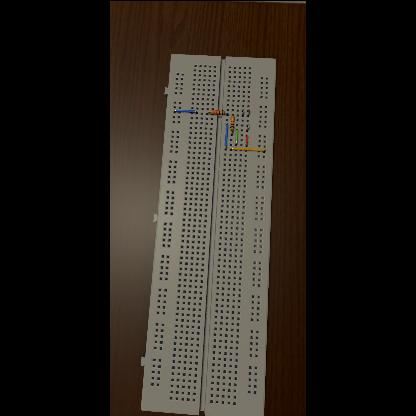breadboard: (141, 52, 277, 416)
resistor: (230, 115, 236, 129), (211, 110, 225, 114)
wire: (230, 146, 266, 152), (174, 109, 198, 113), (225, 122, 228, 150), (235, 128, 238, 144), (246, 134, 248, 146), (242, 108, 244, 116), (248, 108, 250, 116), (247, 124, 249, 131), (208, 110, 210, 113), (225, 112, 228, 114), (232, 130, 233, 134), (232, 114, 234, 115)
